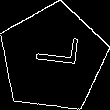L_W: (26, 40, 79, 77)
